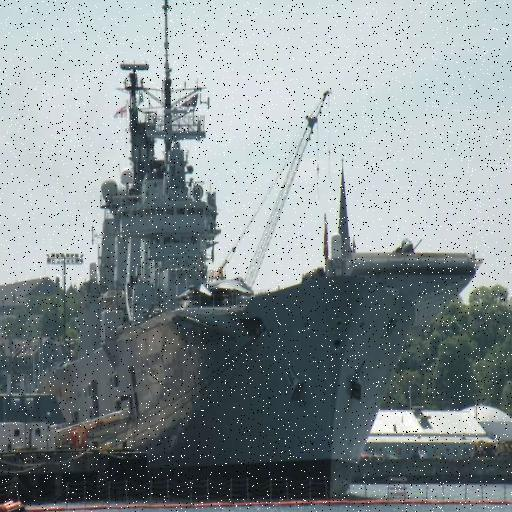Portanaves: (30, 1, 487, 505)
